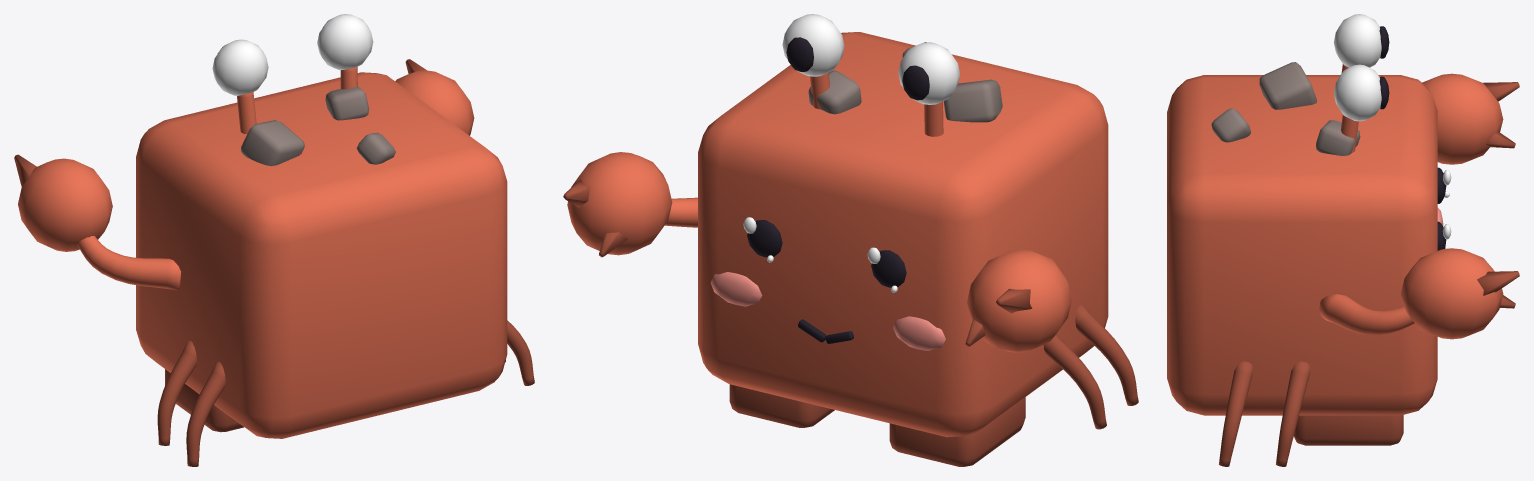
The model's file is pet_astercrab.fbx.
The picture shows the model from 3 angles, left to right: view 1: azimuth 30°, elevation 25°; view 2: azimuth 150°, elevation 25°; view 3: azimuth 270°, elevation 25°; orthographic projection. The views are drawn at different scales.
Visible parts, largest first — view 1: pet_astercrab; view 2: pet_astercrab; view 3: pet_astercrab.
Boxes of the visible parts, bbox=[...] form: pet_astercrab: bbox=[14, 14, 534, 466]; pet_astercrab: bbox=[563, 14, 1138, 466]; pet_astercrab: bbox=[1167, 14, 1519, 466].
Size of the model in its own units: 3.54 by 2.75 by 2.48.
Materials: 1 (1 with a texture image).
